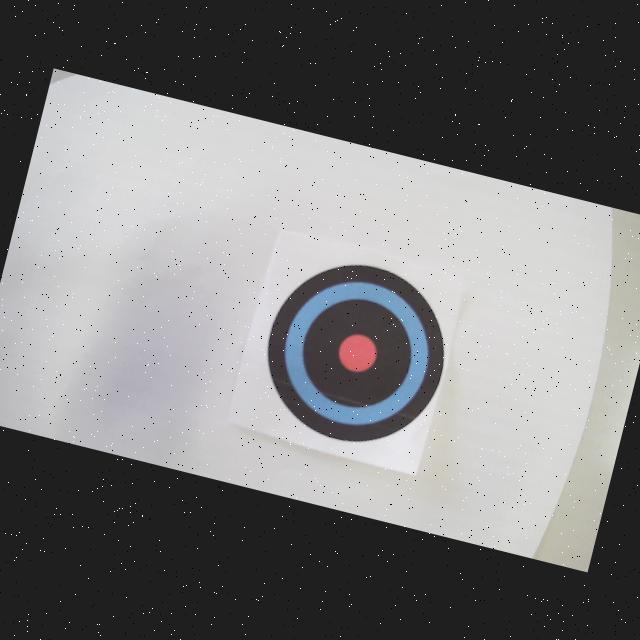COGNITIVE: (248, 244, 462, 460)
